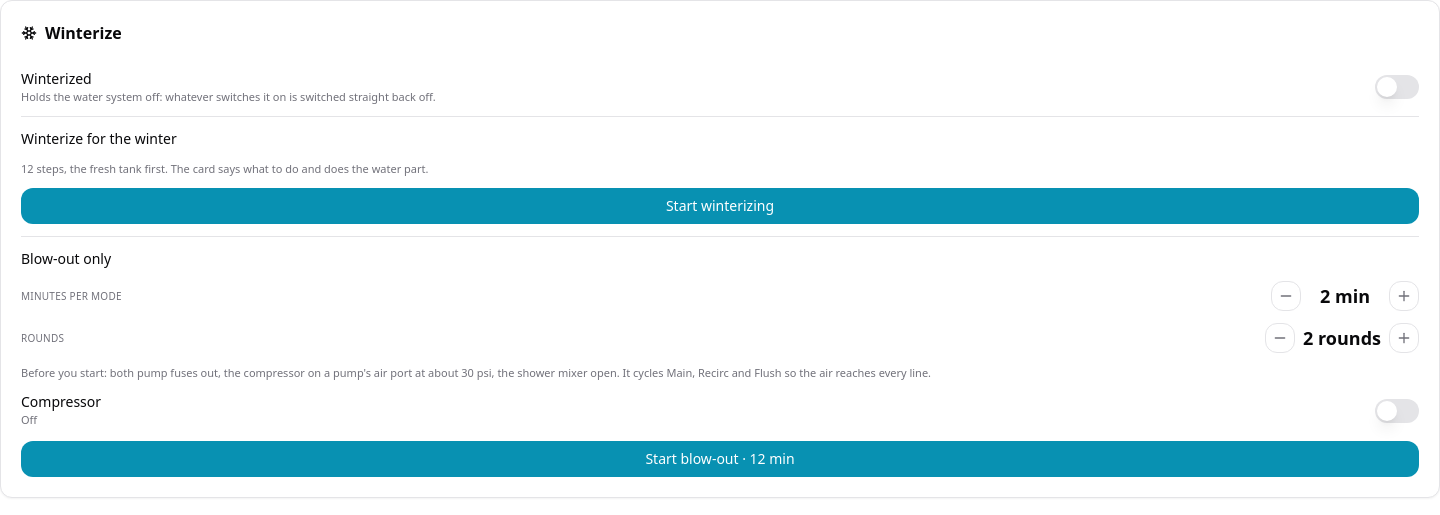
Test: WinterizeCard idle › locks Start after a tap so a double tap cannot start twice
The width and height of the screenshot is (1440, 515).
Click the button "Start blow-out · 12 min" at (720, 459), box [21, 441, 1419, 477]
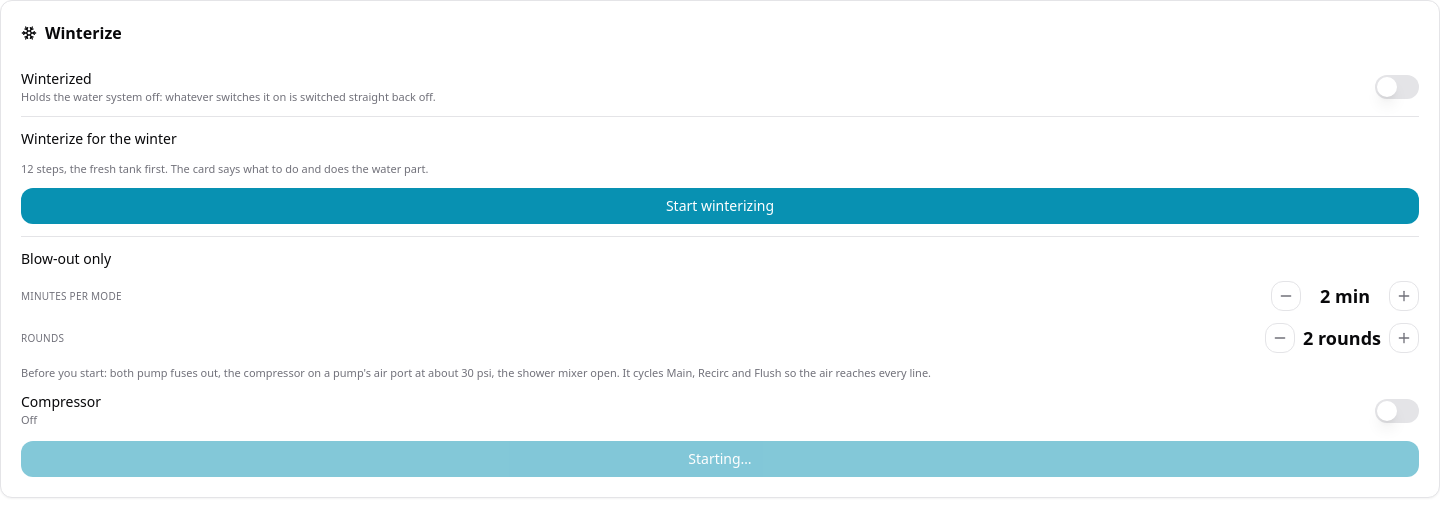
Expected: the button "Starting…" is disabled
Click the button "Starting…" at (720, 459), box [21, 441, 1419, 477]
Wait 5000 ms
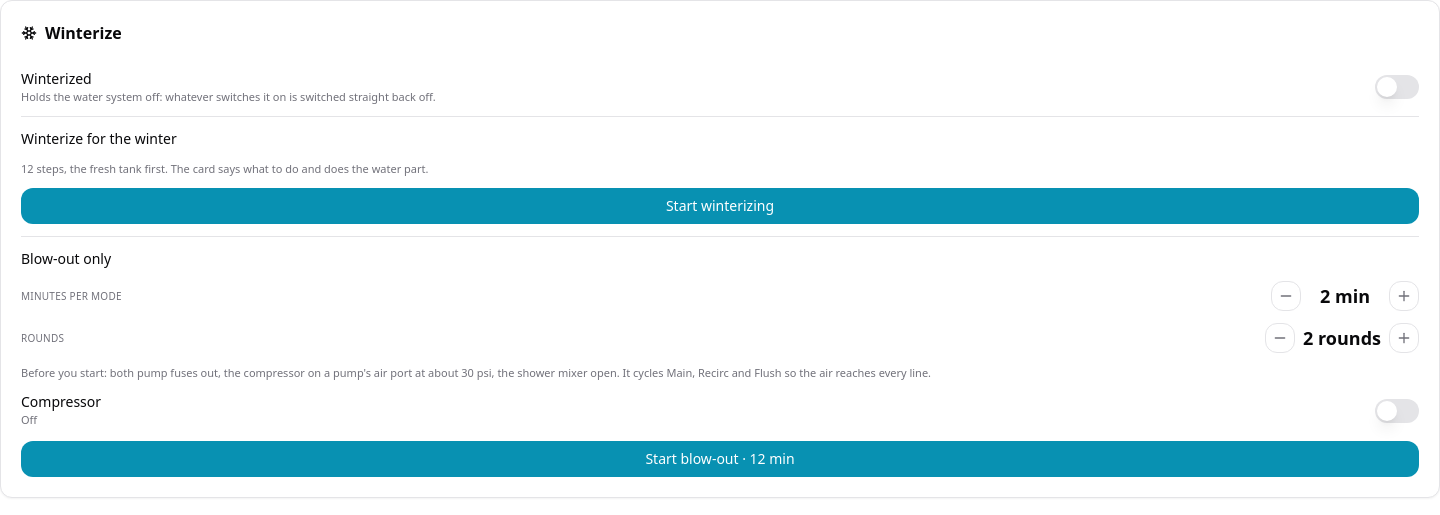
Expected: the button "Start blow-out · 12 min" is enabled, [21, 441, 1419, 477]
